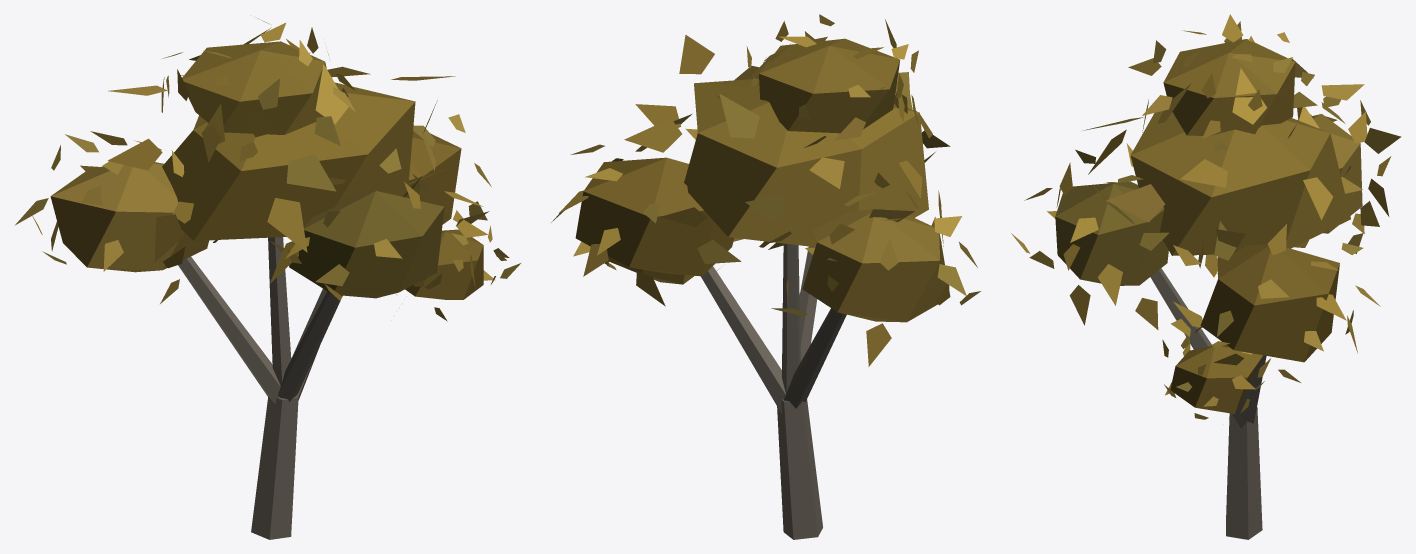
File: cottonwood-high.glb
3 views of the same model, side by side, from view 1: azimuth 30°, elevation 25°; view 2: azimuth 150°, elevation 25°; view 3: azimuth 270°, elevation 25° (orthographic). The views are drawn at different scales.
Visible parts, largest first — view 1: cottonwood-high / foliage-core, cottonwood-high / foliage, cottonwood-high / wood; view 2: cottonwood-high / foliage-core, cottonwood-high / foliage, cottonwood-high / wood; view 3: cottonwood-high / foliage-core, cottonwood-high / foliage, cottonwood-high / wood.
Boxes of the visible parts, x1=… form: cottonwood-high / foliage-core: x1=50, y1=41, x2=483, y2=299; cottonwood-high / foliage: x1=15, y1=18, x2=520, y2=321; cottonwood-high / wood: x1=178, y1=237, x2=342, y2=539; cottonwood-high / foliage-core: x1=575, y1=38, x2=950, y2=322; cottonwood-high / foliage: x1=551, y1=14, x2=980, y2=366; cottonwood-high / wood: x1=701, y1=244, x2=846, y2=539; cottonwood-high / foliage-core: x1=1055, y1=39, x2=1362, y2=413; cottonwood-high / foliage: x1=1011, y1=14, x2=1401, y2=419; cottonwood-high / wood: x1=1150, y1=268, x2=1266, y2=539.
Size of the model in its own units: 14.21 by 15.83 by 11.57.
